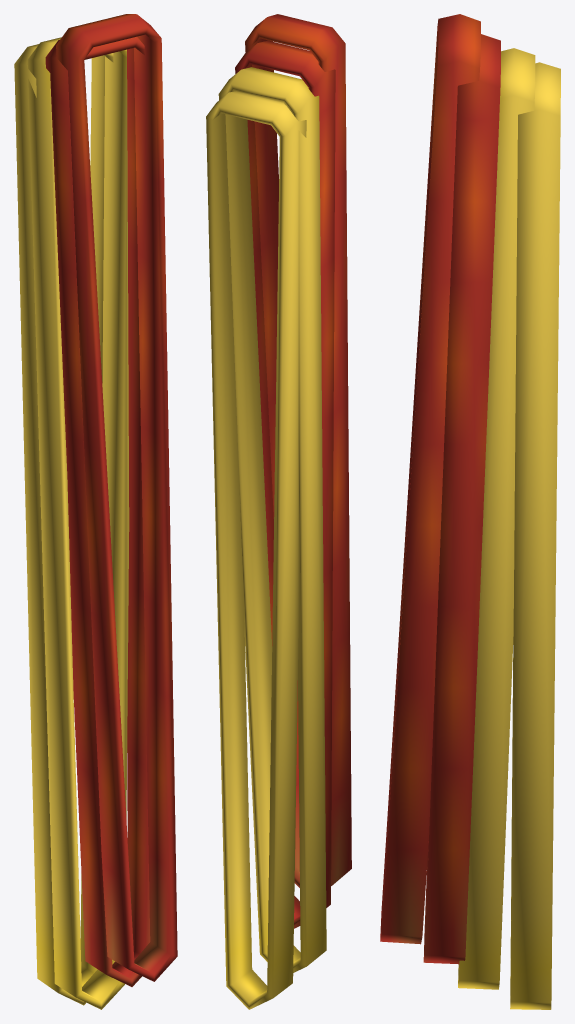
File: band_4.glb
The picture shows the model from 3 angles, left to right: view 1: azimuth 30°, elevation 25°; view 2: azimuth 150°, elevation 25°; view 3: azimuth 270°, elevation 25°; orthographic projection. The views are drawn at different scales.
Parts seen in each view (by area): view 1: GymEquipments_14; view 2: GymEquipments_14; view 3: GymEquipments_14.
Part boxes in pixels (x1=…): GymEquipments_14: x1=14, y1=14, x2=177, y2=1009; GymEquipments_14: x1=206, y1=14, x2=351, y2=1009; GymEquipments_14: x1=380, y1=14, x2=560, y2=1009.
Size of the model in its own units: 0.0366 by 0.4168 by 0.0695.
1 material, 1 textured.
